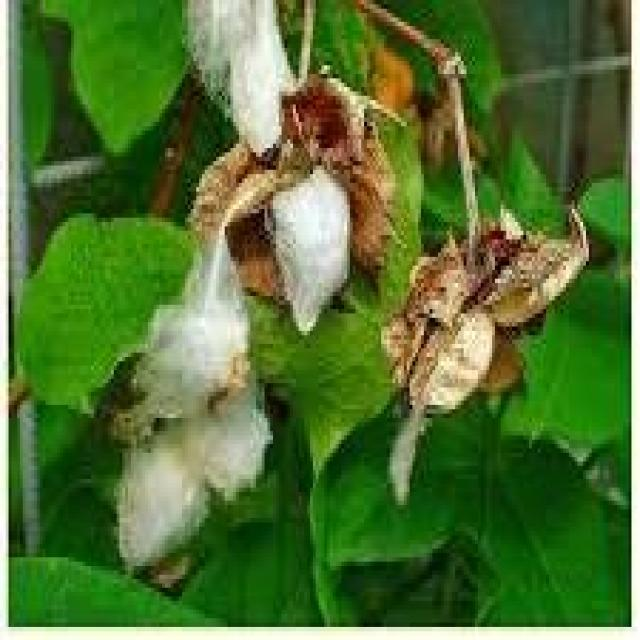Leaf: (107, 209, 278, 581), (258, 55, 402, 360), (177, 0, 308, 163)
